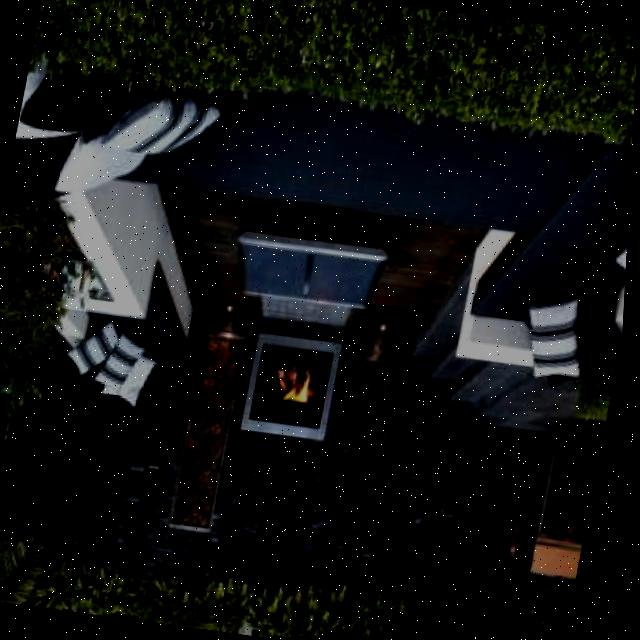Fire: (272, 358, 326, 416)
